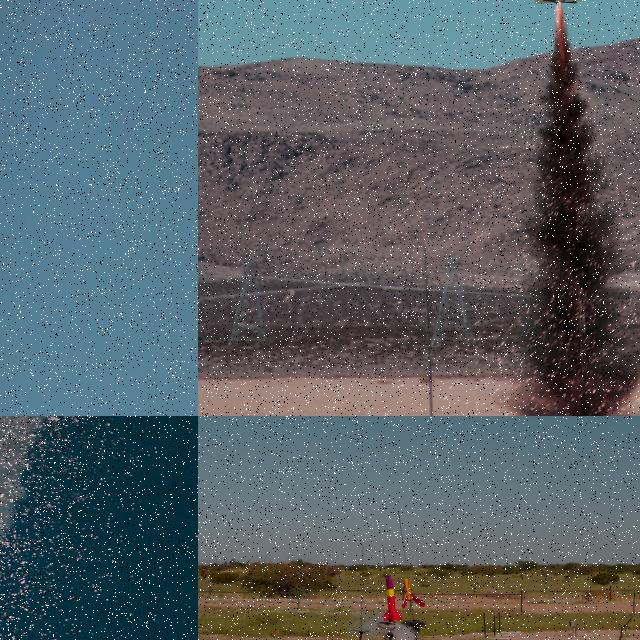Rocket: (382, 574, 404, 622), (400, 577, 426, 609)
